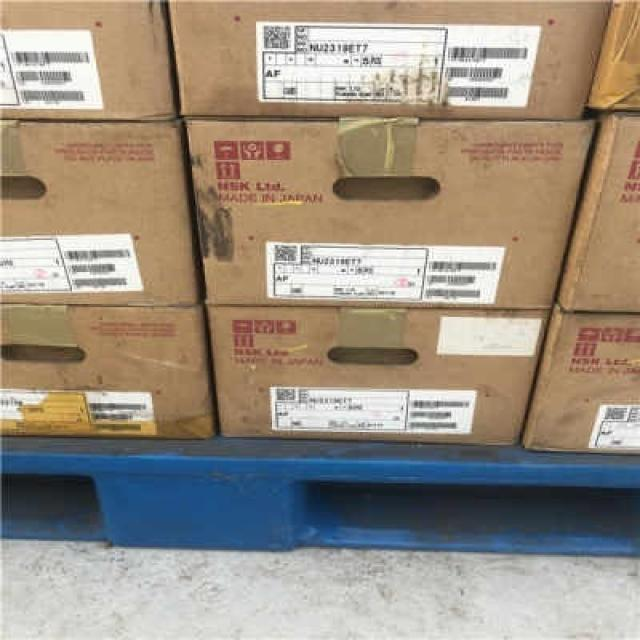box: (185, 118, 597, 309), (169, 0, 612, 119), (206, 305, 552, 446), (0, 118, 202, 306), (0, 301, 218, 439), (0, 0, 179, 120), (520, 299, 638, 454), (555, 110, 638, 314)
